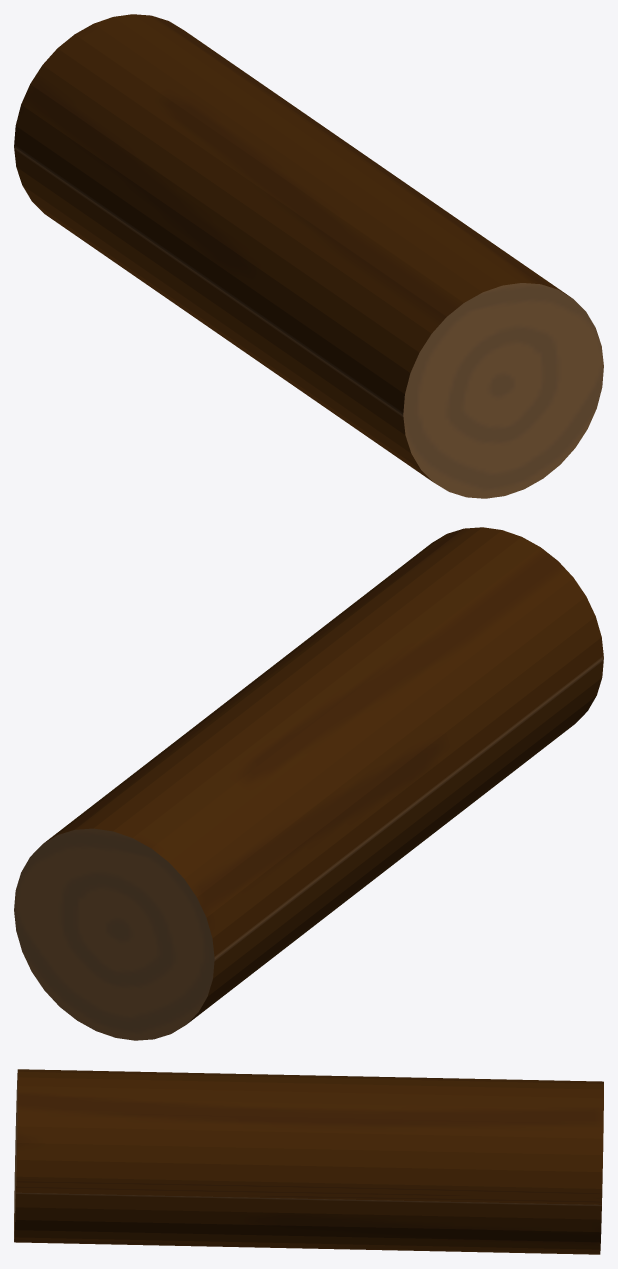
Rendered from ObjectWoodLog.dae.
3 renders of one model, top to bottom at view 1: azimuth 30°, elevation 25°; view 2: azimuth 150°, elevation 25°; view 3: azimuth 270°, elevation 25°, orthographic. The views are drawn at different scales.
Parts seen in each view (by area): view 1: Cylinder; view 2: Cylinder; view 3: Cylinder.
Boxes of the visible parts, bbox=[...] form: Cylinder: bbox=[14, 14, 603, 498]; Cylinder: bbox=[14, 527, 603, 1040]; Cylinder: bbox=[14, 1069, 603, 1254].
Size of the model in its own units: 0.807 by 2.73 by 0.8638.
Materials: 1 (1 with a texture image).
